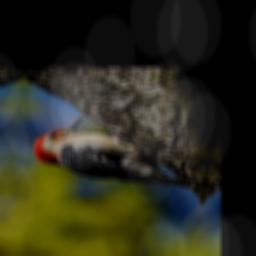Woodpecker: (29, 109, 198, 186)
